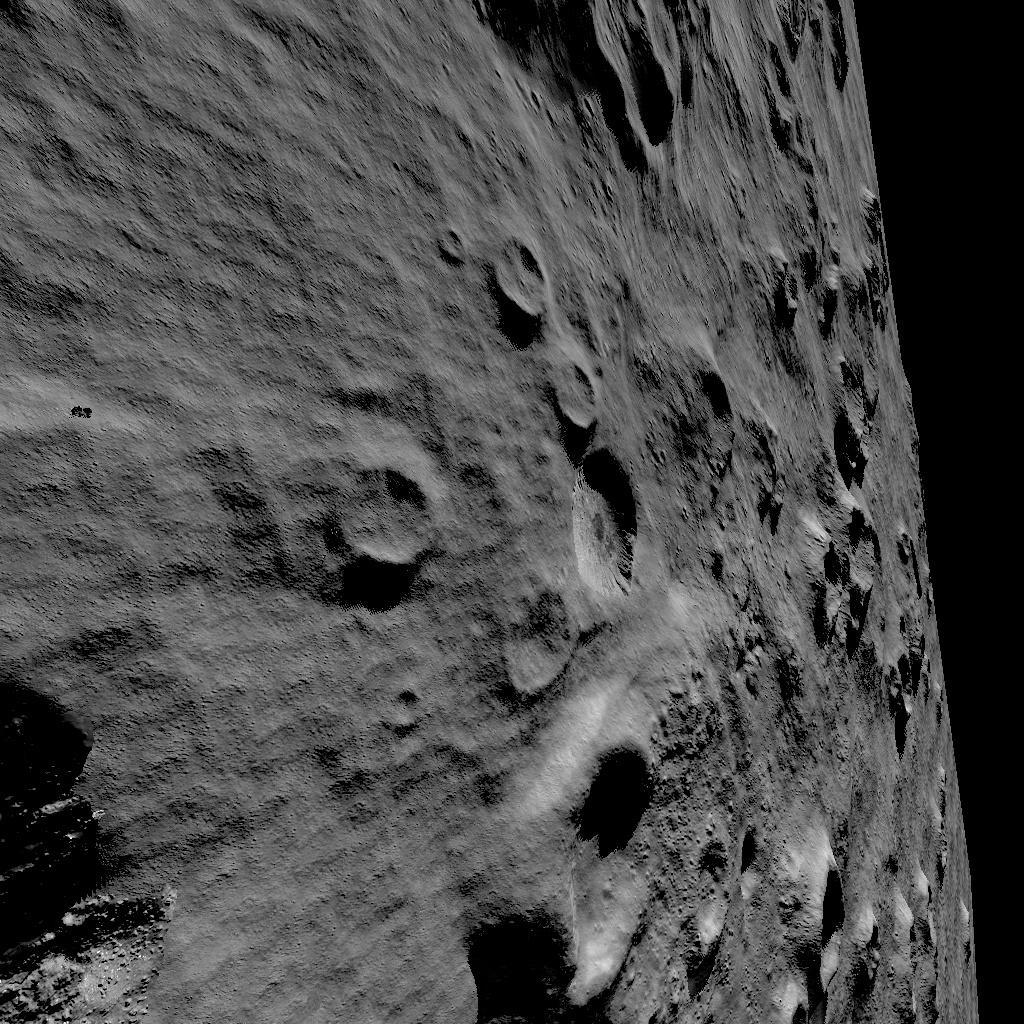Boulders: (0, 647, 190, 1024)
Crater: (485, 692, 669, 1024), (488, 234, 642, 592), (810, 356, 934, 732), (464, 0, 714, 181), (782, 813, 958, 1024), (770, 186, 896, 342), (757, 0, 855, 170), (332, 456, 438, 576), (691, 824, 769, 961), (666, 342, 740, 482)
Plan surface: (178, 0, 450, 446), (205, 612, 466, 1024), (0, 457, 220, 603)
